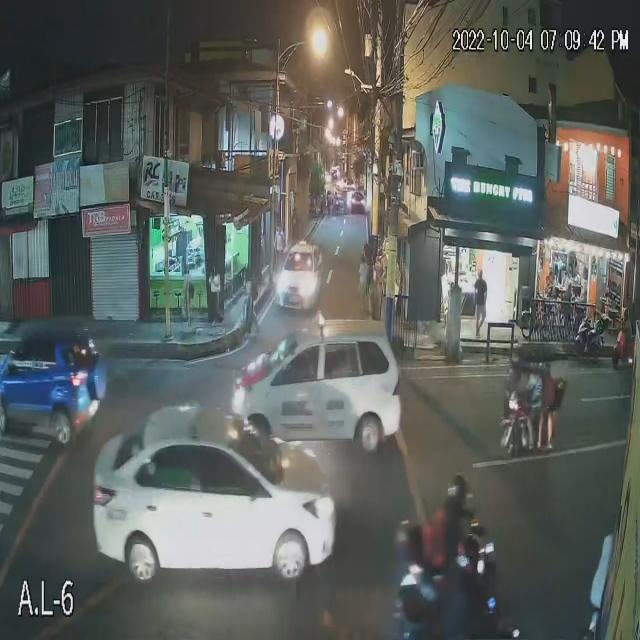helmet: (435, 478, 480, 526), (512, 345, 535, 374), (534, 358, 553, 381)
motorcycle: (399, 525, 501, 639), (498, 398, 540, 455), (575, 315, 606, 354), (614, 337, 636, 371)
rider: (425, 501, 481, 587), (528, 374, 544, 424), (542, 377, 558, 420)
